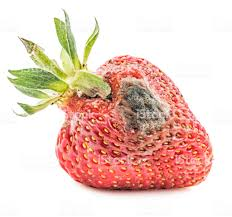damaged_strawberry: (57, 57, 211, 190)
